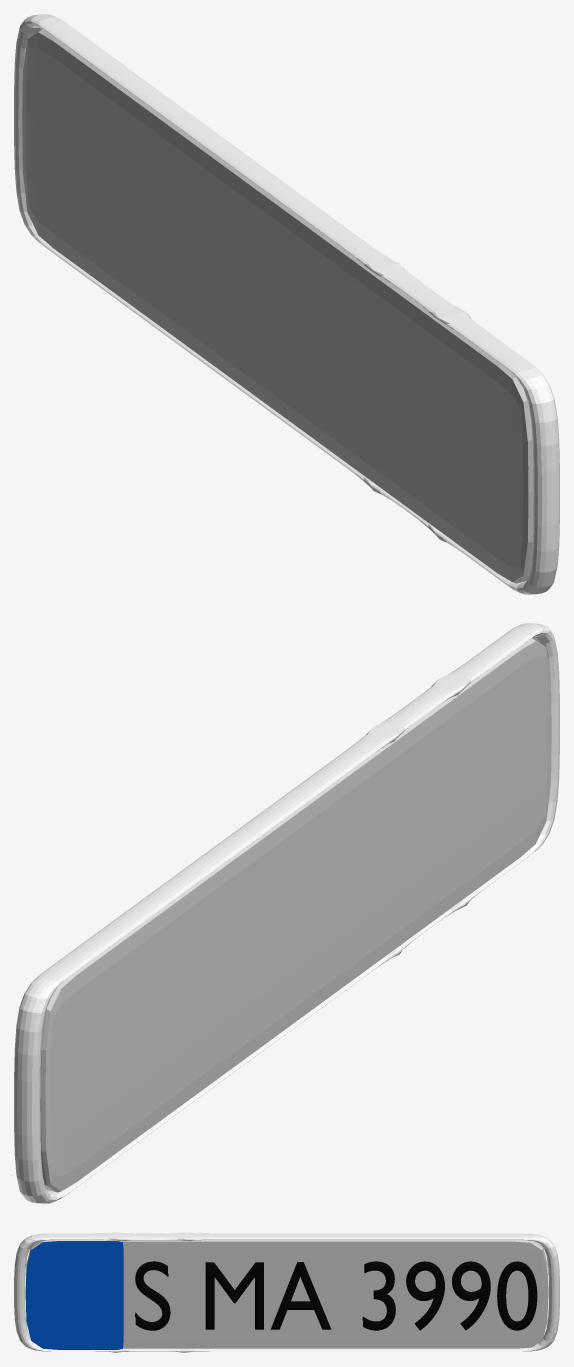
Rendered from licensePlatefbx.fbx.
3 renders of one model, top to bottom at view 1: azimuth 30°, elevation 25°; view 2: azimuth 150°, elevation 25°; view 3: azimuth 270°, elevation 25°, orthographic. The views are drawn at different scales.
Visible parts, largest first — view 1: licensePlate, Plane; view 2: licensePlate, Plane; view 3: licensePlate, Plane.002, Text, Plane.
Part boxes in pixels (x1=…): licensePlate: x1=22, y1=29, x2=533, y2=583; Plane: x1=14, y1=14, x2=559, y2=594; licensePlate: x1=40, y1=638, x2=551, y2=1192; Plane: x1=14, y1=623, x2=559, y2=1203; licensePlate: x1=25, y1=1240, x2=548, y2=1348; Plane.002: x1=25, y1=1241, x2=123, y2=1349; Text: x1=134, y1=1261, x2=537, y2=1330; Plane: x1=14, y1=1232, x2=559, y2=1352.
Size of the model in its own units: 1.57 by 12.55 by 54.47.
